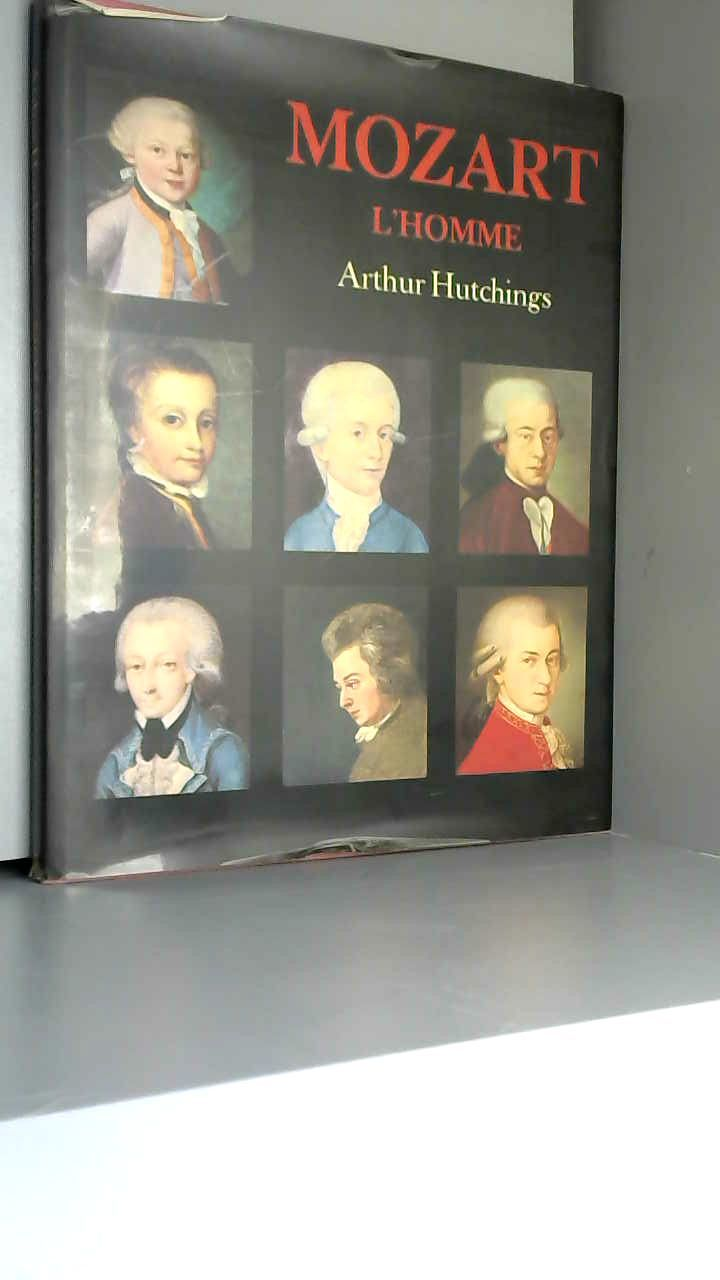book: (8, 0, 654, 920)
